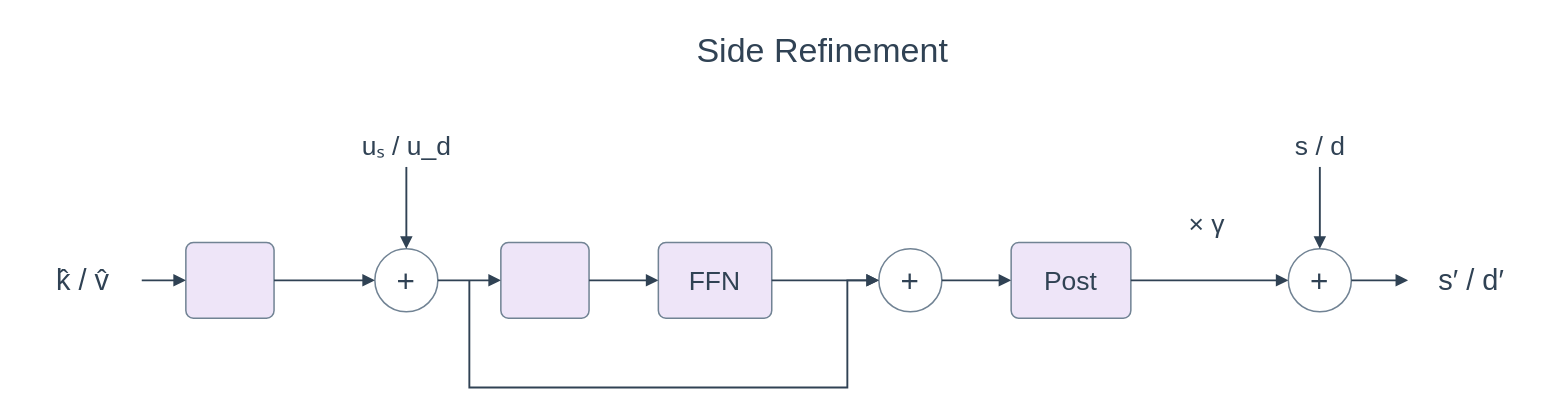
This 1555x420 diagram has some shape labels left out. Each missing label, with the centre of its shape:
LN: the point at 544,279
PW: the point at 229,279
